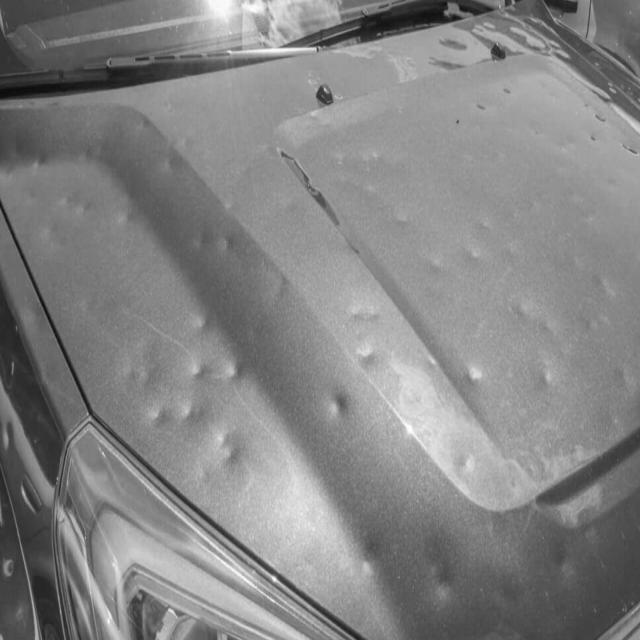dent: (0, 12, 640, 637)
